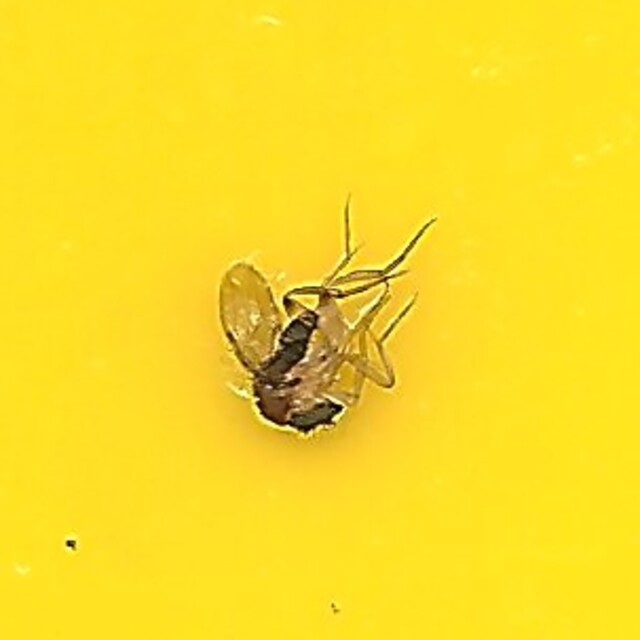Brachycera: (211, 203, 429, 437)
